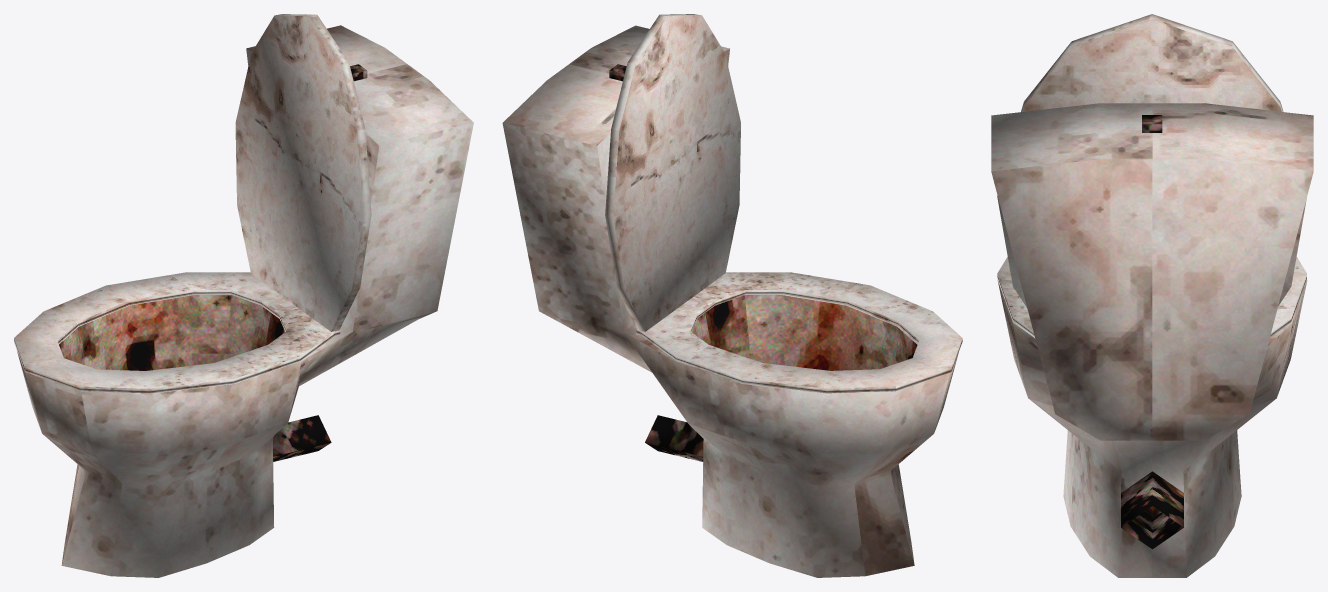
File: psx_toilet_dirty.glb
3 renders of one model, left to right at view 1: azimuth 30°, elevation 25°; view 2: azimuth 150°, elevation 25°; view 3: azimuth 270°, elevation 25°, orthographic. The views are drawn at different scales.
Visible parts, largest first — view 1: src, roof.001, roof; view 2: src, roof.001, roof; view 3: src, roof.001, roof.
Part boxes in pixels (bbox=[...]): src: bbox=[17, 25, 473, 577]; roof.001: bbox=[235, 14, 371, 331]; roof: bbox=[14, 272, 340, 393]; src: bbox=[502, 25, 958, 577]; roof.001: bbox=[605, 14, 740, 331]; roof: bbox=[636, 272, 962, 393]; src: bbox=[991, 103, 1313, 577]; roof.001: bbox=[997, 14, 1306, 307]; roof: bbox=[997, 257, 1306, 337].
Size of the model in its own units: 2.34 by 2.86 by 1.41.
1 material, 1 textured.
